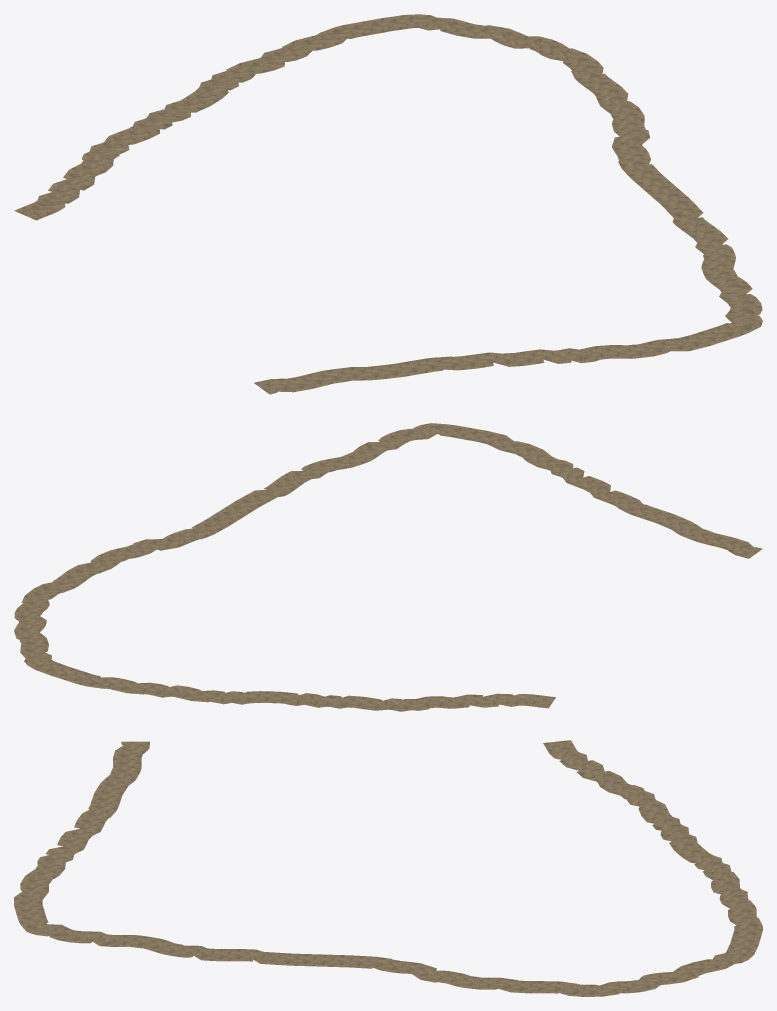
Rendered from RD-ROAD-014.obj.
3 views of the same model, one above another, from view 1: azimuth 30°, elevation 25°; view 2: azimuth 150°, elevation 25°; view 3: azimuth 270°, elevation 25° (orthographic). The views are drawn at different scales.
Parts seen in each view (by area): view 1: RD-ROAD-014; view 2: RD-ROAD-014; view 3: RD-ROAD-014.
Boxes of the visible parts, x1,y1,x2,y2 form: RD-ROAD-014: (14,14,762,394); RD-ROAD-014: (14,423,762,711); RD-ROAD-014: (14,740,762,996).
Bounding box in the file's own units: 84.52 × 0 × 104.
1 material, 1 textured.
